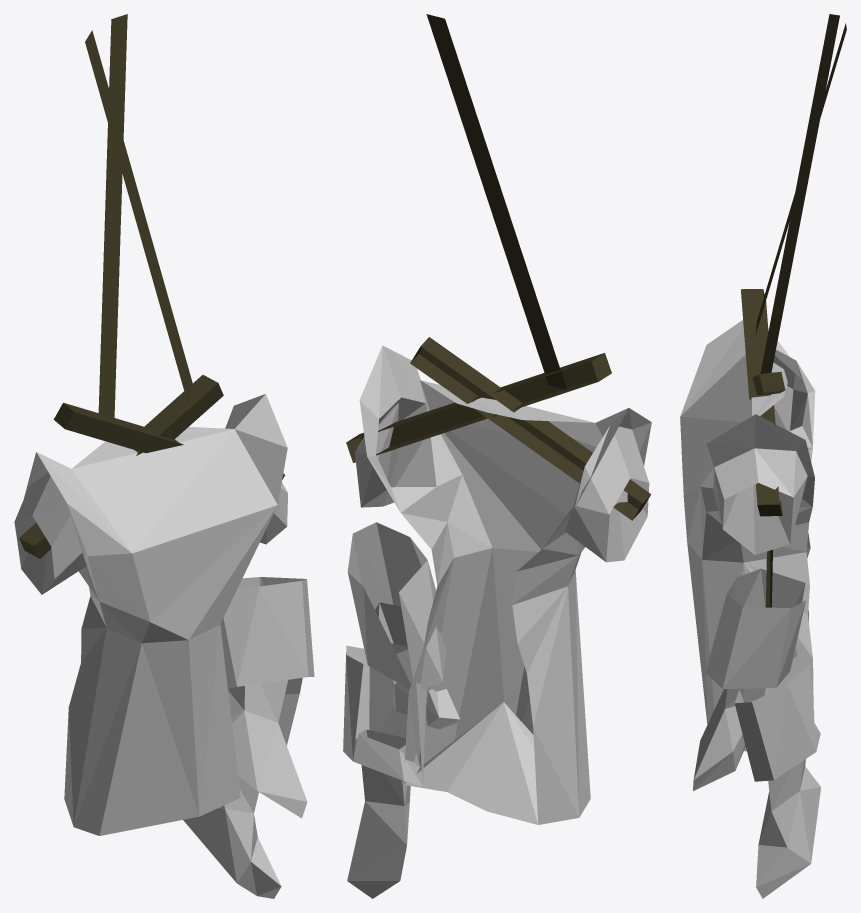
Rendered from OC_WEAPON_WALLARMOR.OBJ.
3 views of the same model, side by side, from view 1: azimuth 30°, elevation 25°; view 2: azimuth 150°, elevation 25°; view 3: azimuth 270°, elevation 25° (orthographic). The views are drawn at different scales.
Parts seen in each view (by area): view 1: OC_WEAPON_WALLARMOR; view 2: OC_WEAPON_WALLARMOR; view 3: OC_WEAPON_WALLARMOR.
Boxes of the visible parts, x1,y1,x2,y2 form: OC_WEAPON_WALLARMOR: [14, 14, 314, 898]; OC_WEAPON_WALLARMOR: [343, 14, 651, 898]; OC_WEAPON_WALLARMOR: [680, 14, 846, 898].
Size of the model in its own units: 1.09 by 3.26 by 0.5983.
